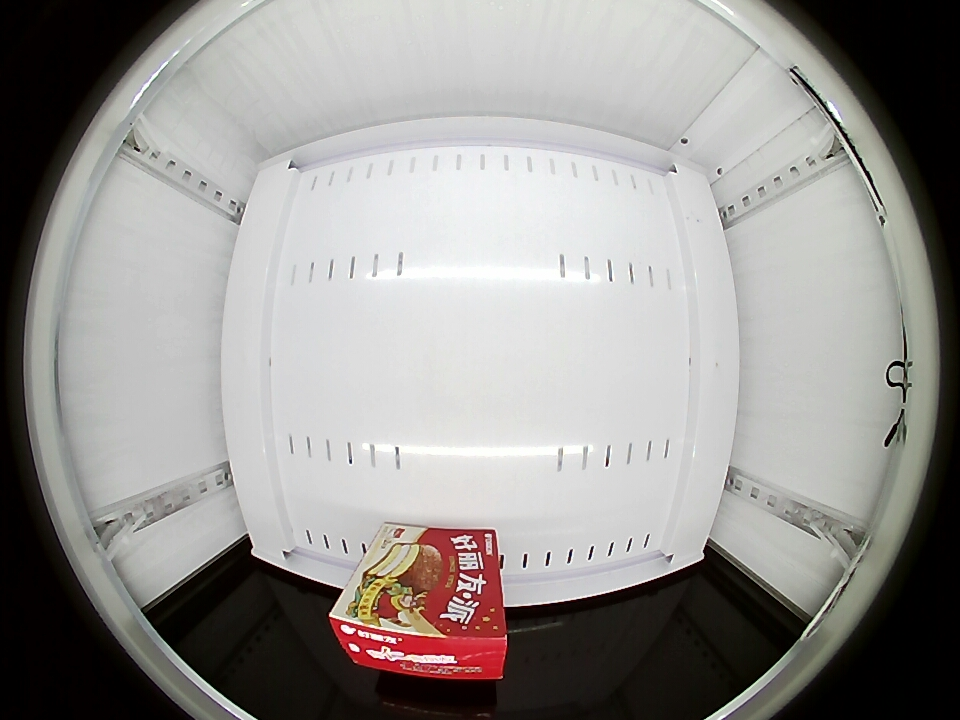haoliyou: (330, 546, 508, 680)
